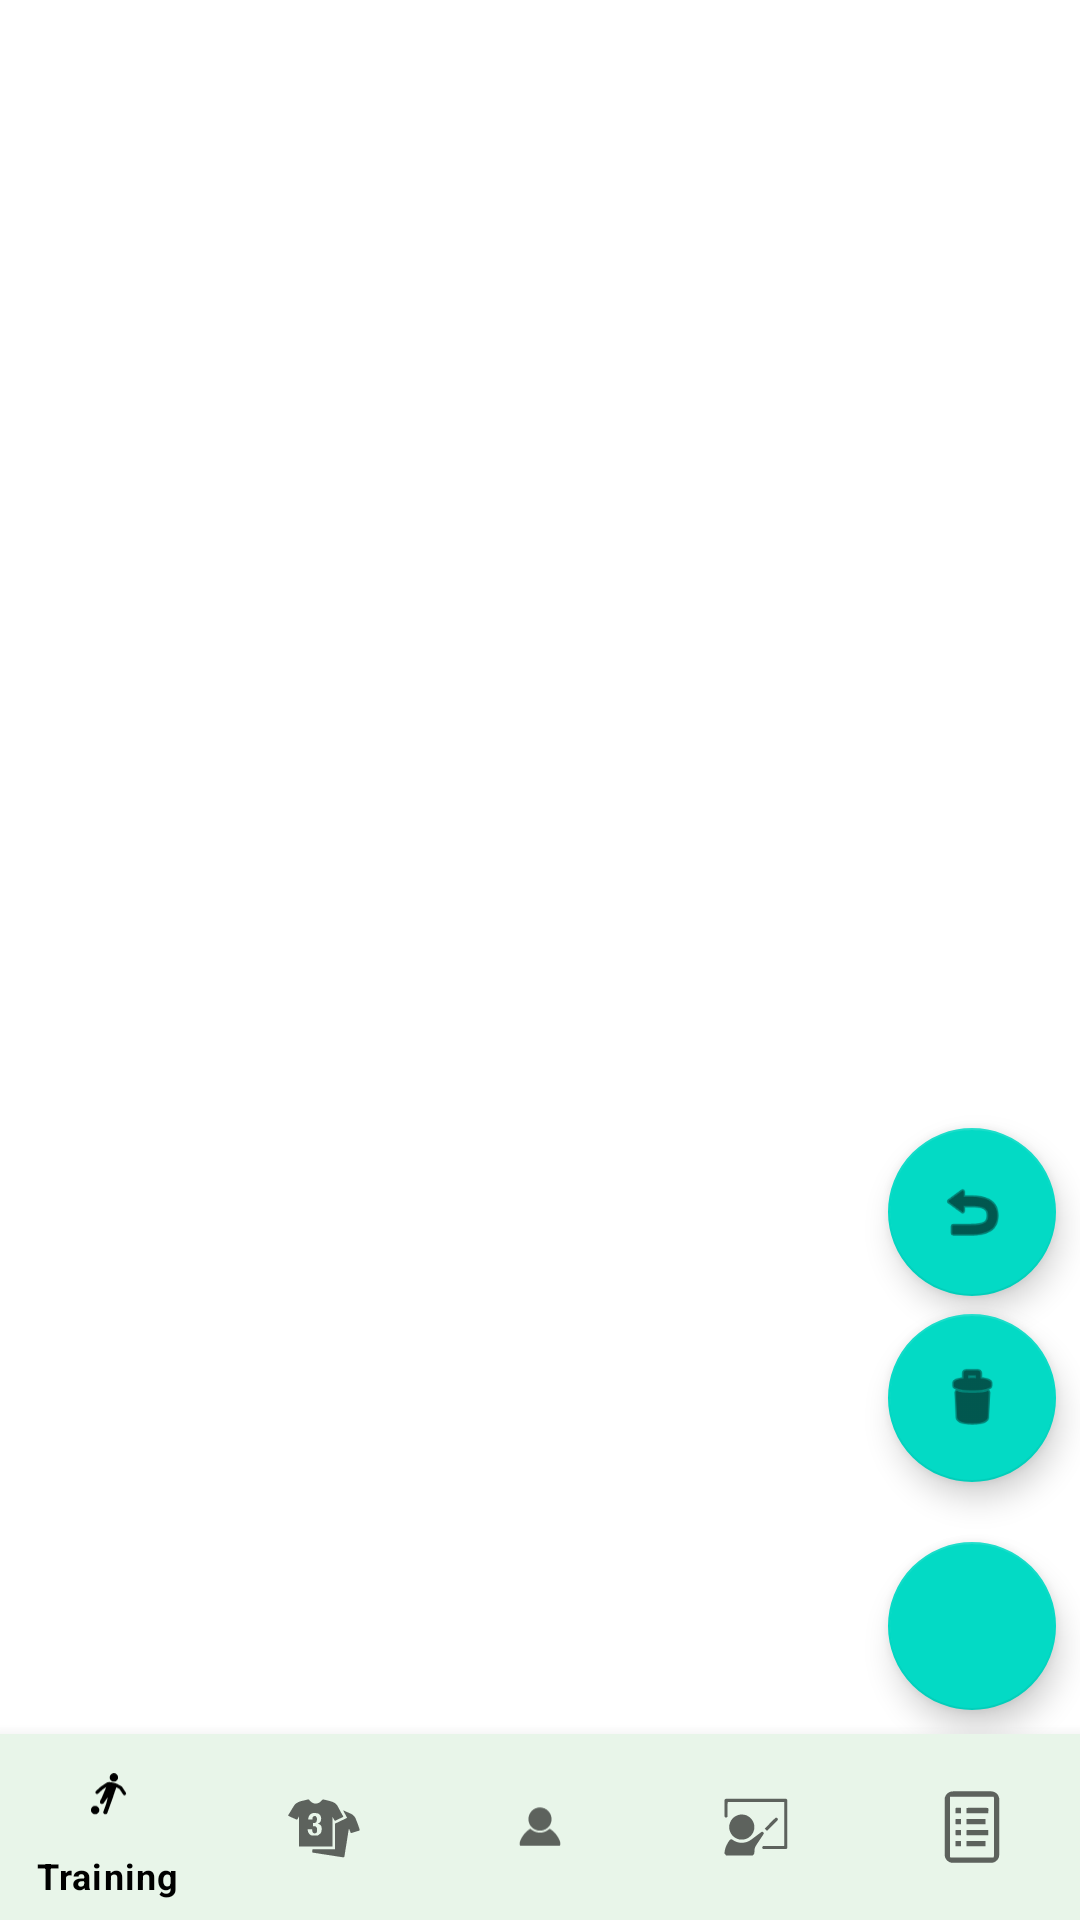

Icons on this 1080x1920 Android screen, each with its box as BBox(x1, y1, x2, y2):
delete: BBox(888, 1314, 1056, 1482)
revert: BBox(888, 1128, 1056, 1296)
